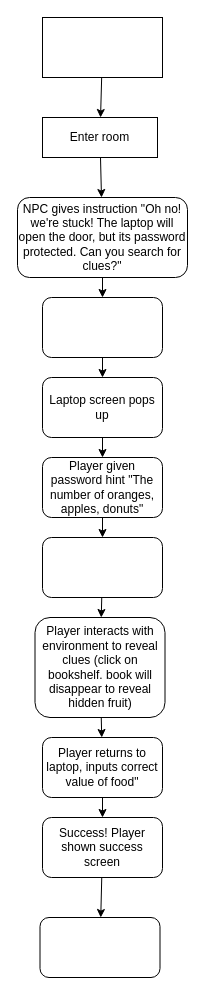
The diagram is 205 pixels wide and 995 high, and some of its shapes have lost their labels. The shapes that lost their labels are listed below. From the top down, each one's centre as x and y in pixels, then its label:
the point at 102,47: Escape room
the point at 102,327: Player searches for clues (click laptop)
the point at 102,567: Sprite says "lets look around the room"
the point at 99,947: End
